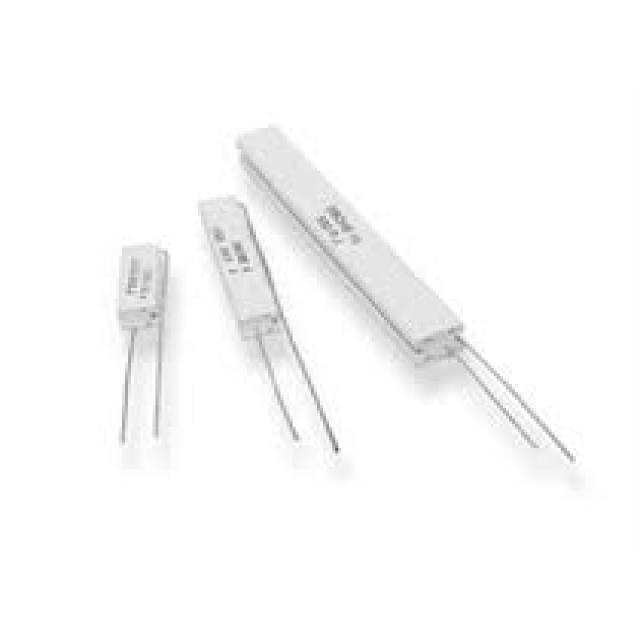Resistor: (238, 127, 456, 356), (197, 198, 280, 334), (141, 245, 171, 451), (116, 244, 168, 332)
